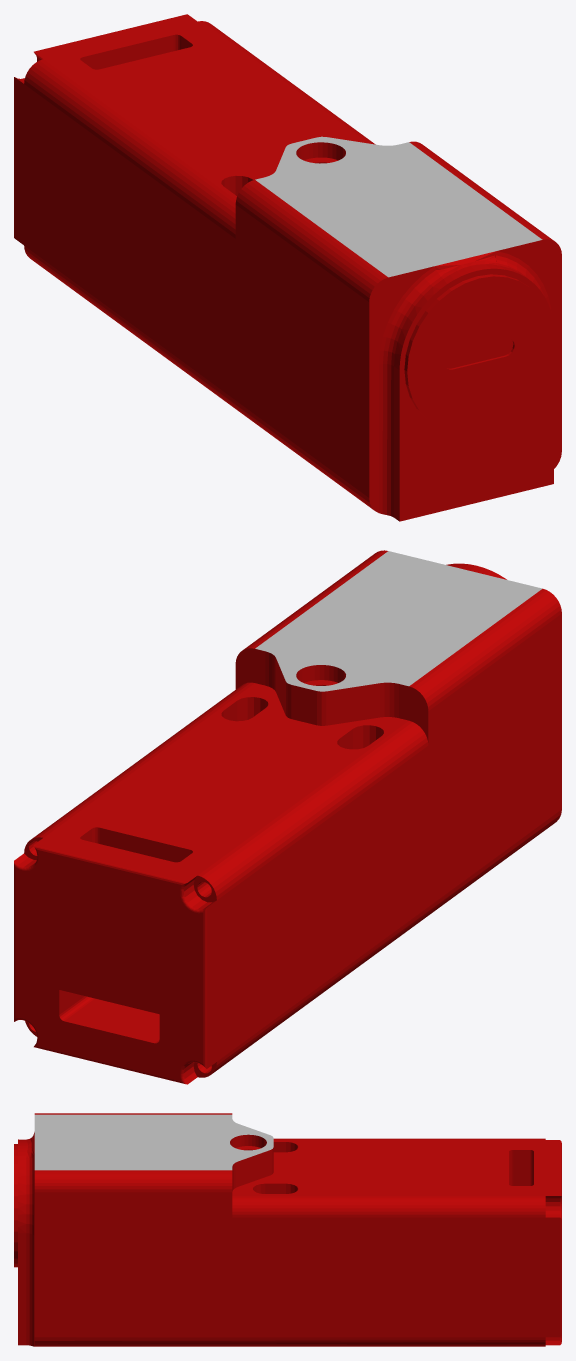
Rendered from SafetyInterlockSwitch.fbx.
3 views of the same model, one above another, from view 1: azimuth 30°, elevation 25°; view 2: azimuth 150°, elevation 25°; view 3: azimuth 270°, elevation 25° (orthographic). The views are drawn at different scales.
Visible parts, largest first — view 1: SafetyInterlockSwitch; view 2: SafetyInterlockSwitch; view 3: SafetyInterlockSwitch.
Part boxes in pixels (x1=…): SafetyInterlockSwitch: x1=14, y1=14, x2=561, y2=521; SafetyInterlockSwitch: x1=14, y1=550, x2=561, y2=1084; SafetyInterlockSwitch: x1=14, y1=1113, x2=561, y2=1346.
Bounding box in the file's own units: 1 × 1.17 × 3.33.
